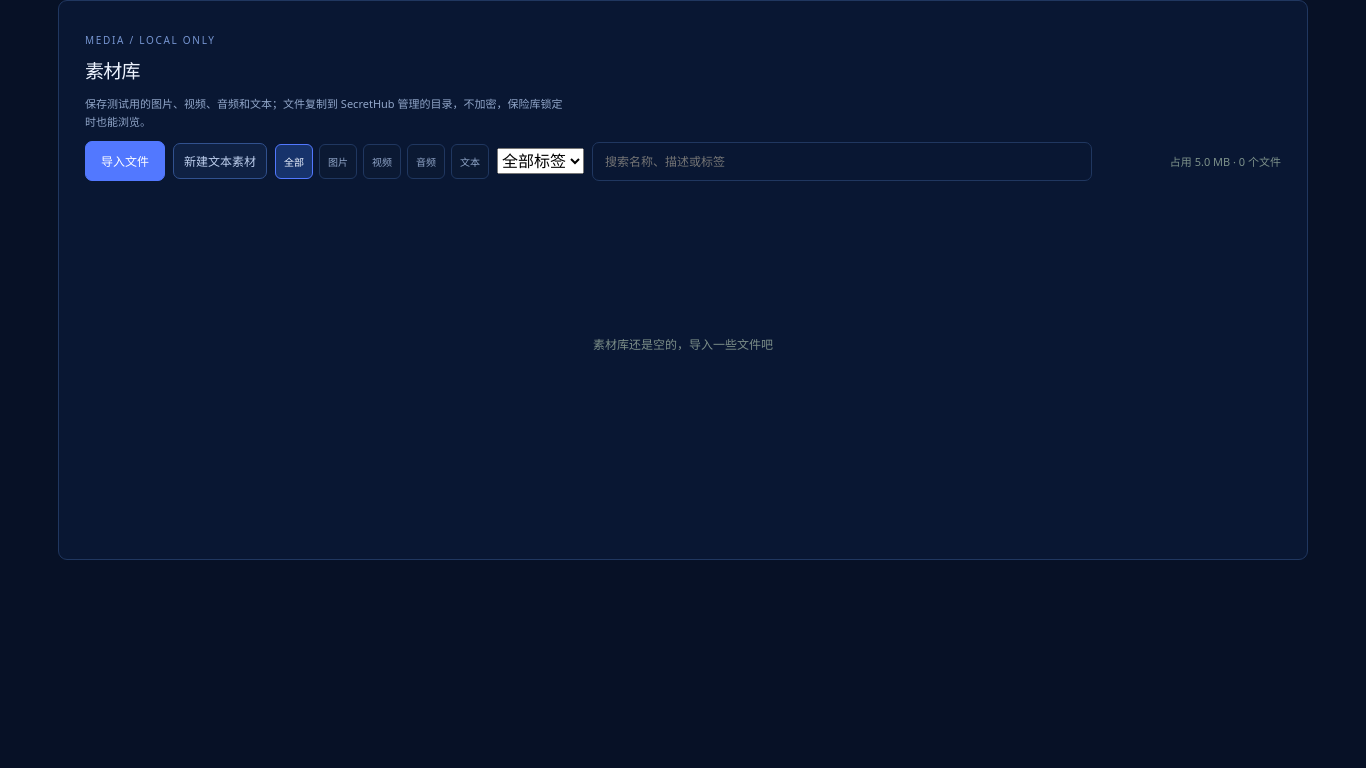
Test: MediaLibrary page › imports through the file dialog and reports duplicates and failures
Expected: the text "素材库还是空的，导入一些文件吧" is shown, [593,335,773,353]
Click the button "导入文件" at (125, 161), box [85,141,165,181]
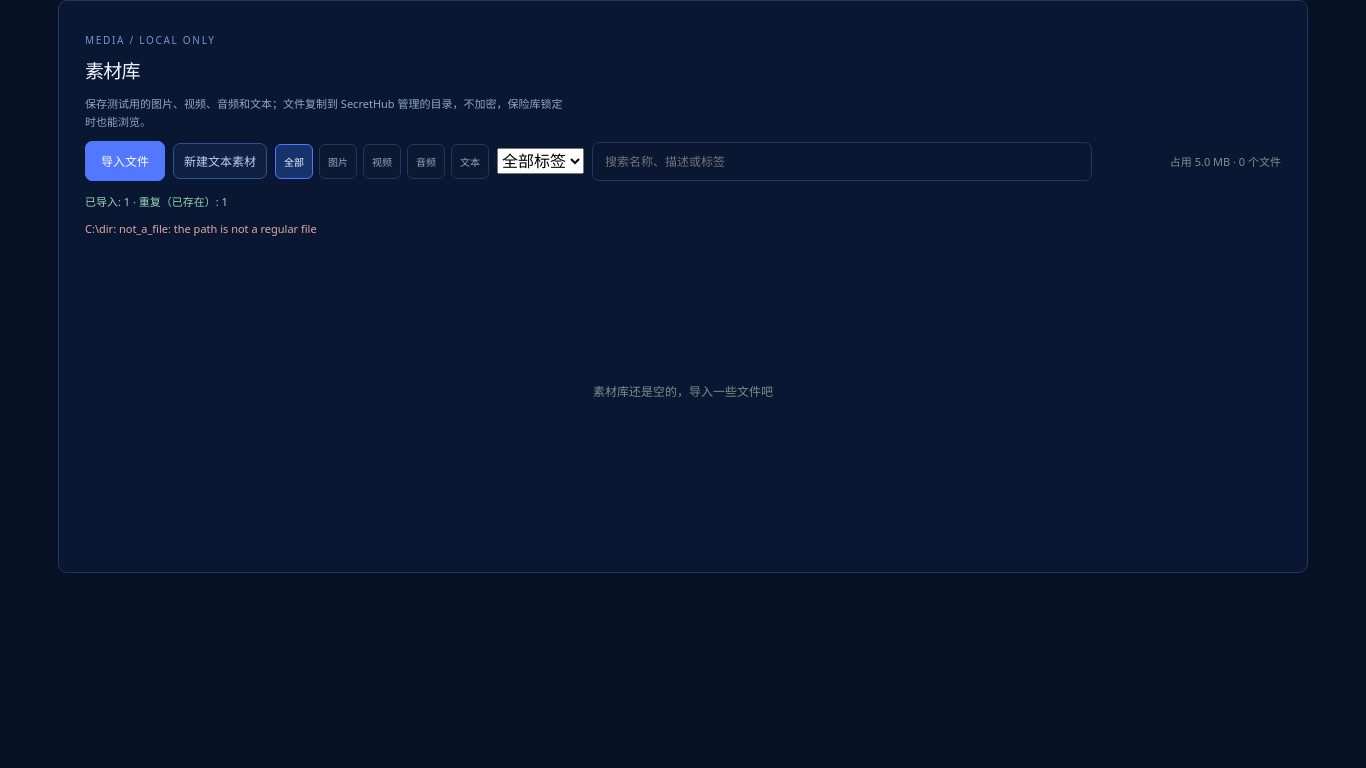
Now the text "已导入: 1 · 重复（已存在）: 1" is shown, box [85,194,228,209]
Now the message shows "not_a_file", box [85,221,317,236]
